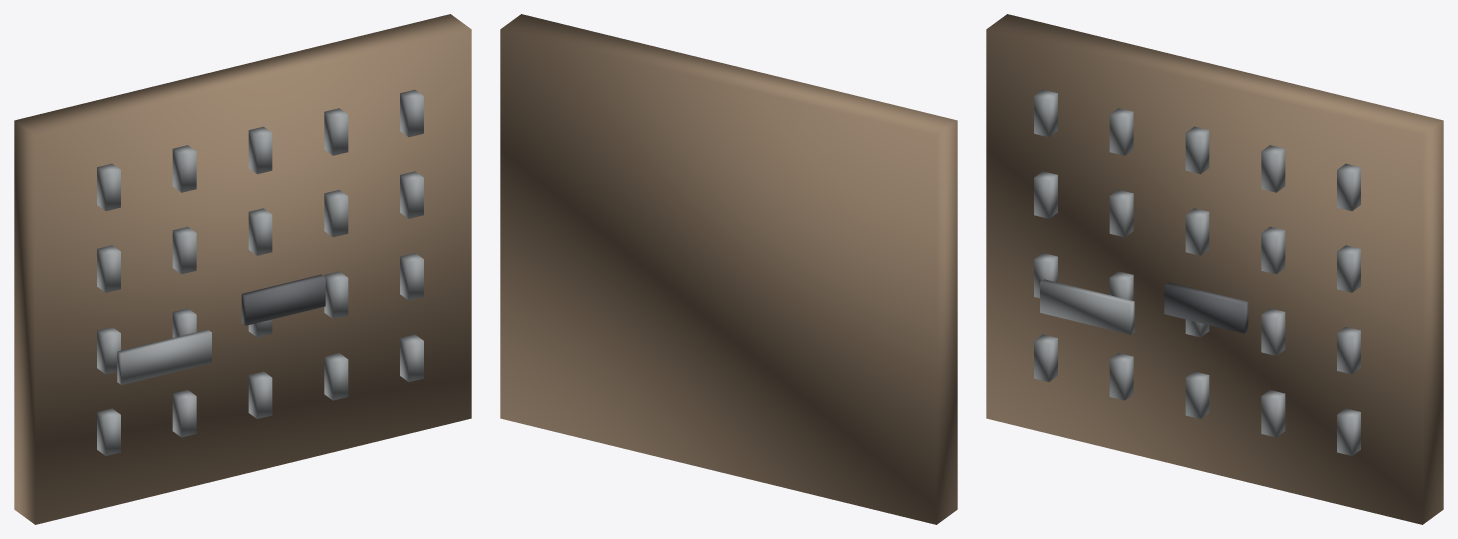
Rendered from key_cubby_rack__weathered.glb.
The picture shows the model from 3 angles, left to right: view 1: azimuth 30°, elevation 25°; view 2: azimuth 150°, elevation 25°; view 3: azimuth 330°, elevation 25°; orthographic projection.
Visible parts, largest first — view 1: world; view 2: world; view 3: world.
Boxes of the visible parts, x1,y1,x2,y2 form: world: (14, 14, 471, 524); world: (500, 14, 957, 524); world: (986, 14, 1443, 524).
Size of the model in its own units: 0.72 by 0.6138 by 0.1065.
